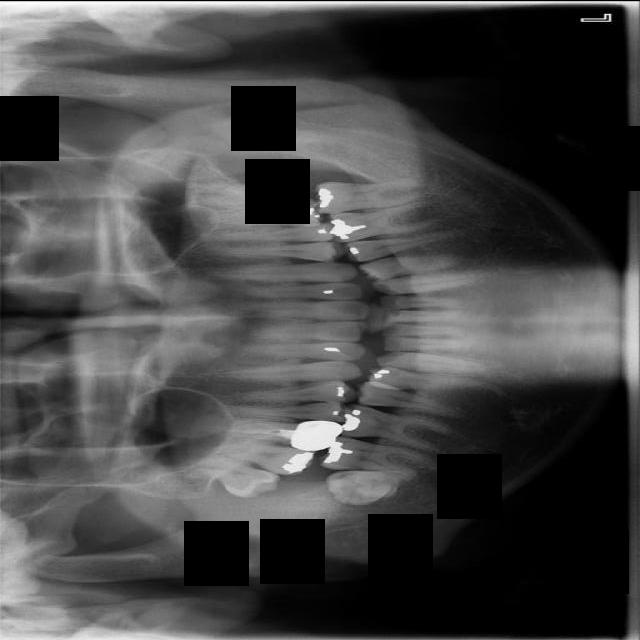3M ESPE Implant: (179, 441, 285, 511)
52: (317, 426, 368, 481), (254, 164, 309, 209), (288, 415, 345, 454), (261, 439, 315, 480), (339, 399, 384, 445), (325, 205, 373, 245), (274, 196, 324, 226), (313, 180, 357, 214), (315, 379, 358, 403), (345, 236, 382, 263), (307, 400, 352, 422), (366, 366, 409, 389), (317, 340, 365, 359), (319, 281, 365, 300), (298, 222, 335, 242)
73: (212, 412, 297, 444), (560, 48, 574, 52)
BioHorizons Implant: (185, 166, 309, 214)
Blue Sky Bio Implant: (311, 176, 423, 213)
Caries: (210, 434, 313, 477)
Implant: (318, 433, 434, 479)
Keystone Dental Implant: (325, 469, 397, 507)
